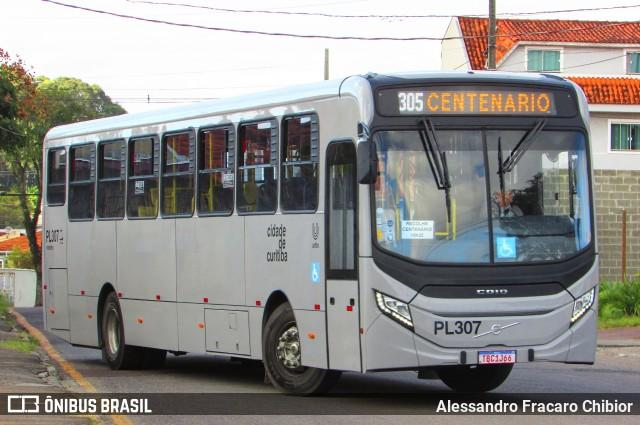CENTENARIO: (424, 89, 553, 115)
